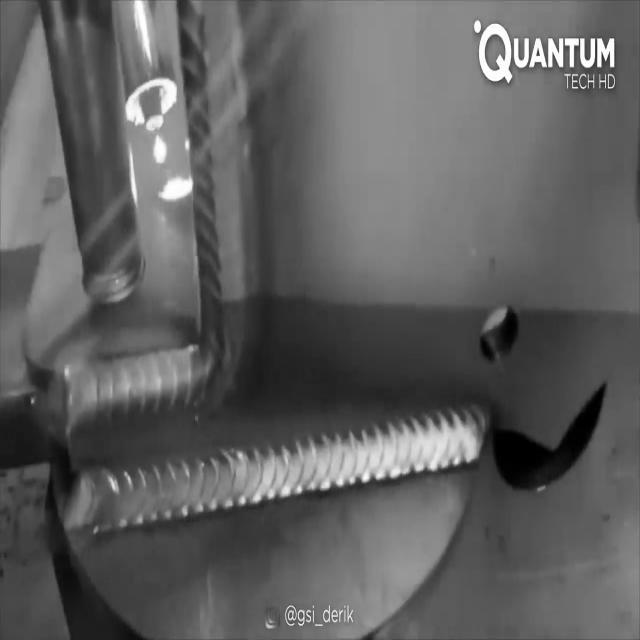Good Welding: (72, 419, 472, 548), (62, 358, 215, 418)
